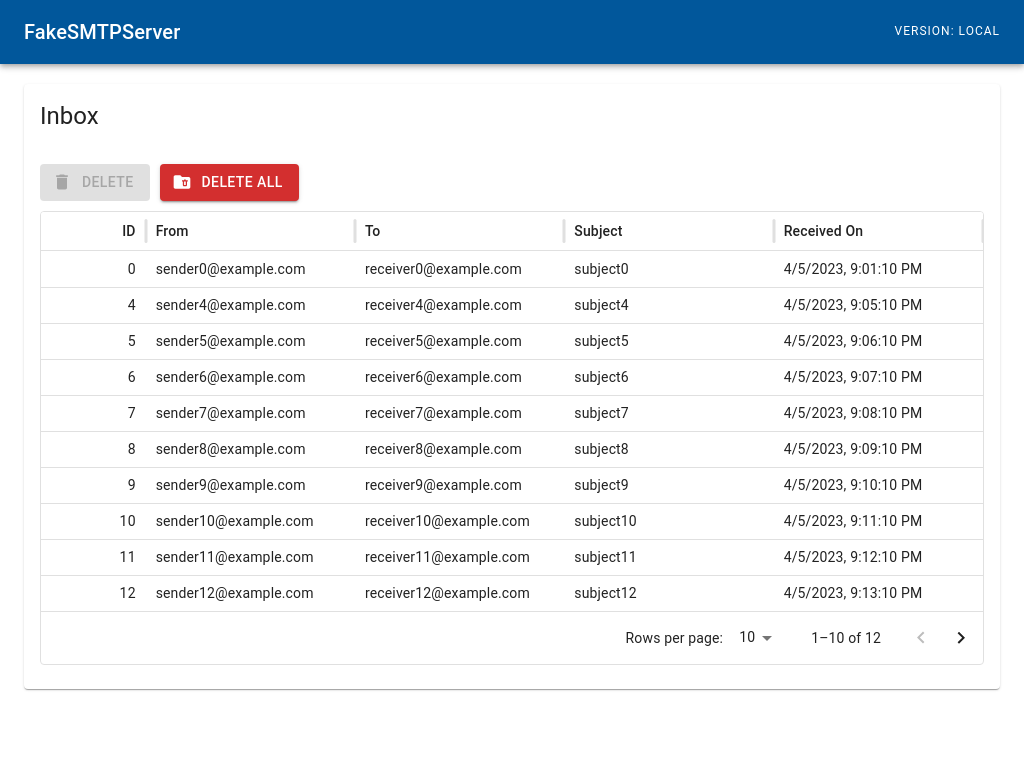
EmailListPage › should delete all emails when delete is confirmed
This screenshot has width=1024, height=768.
expect the cell titled "5" is shown: met, box [41,322,146,358]
Click the button "Delete All".
click(229, 182)  # box [160,164,299,200]
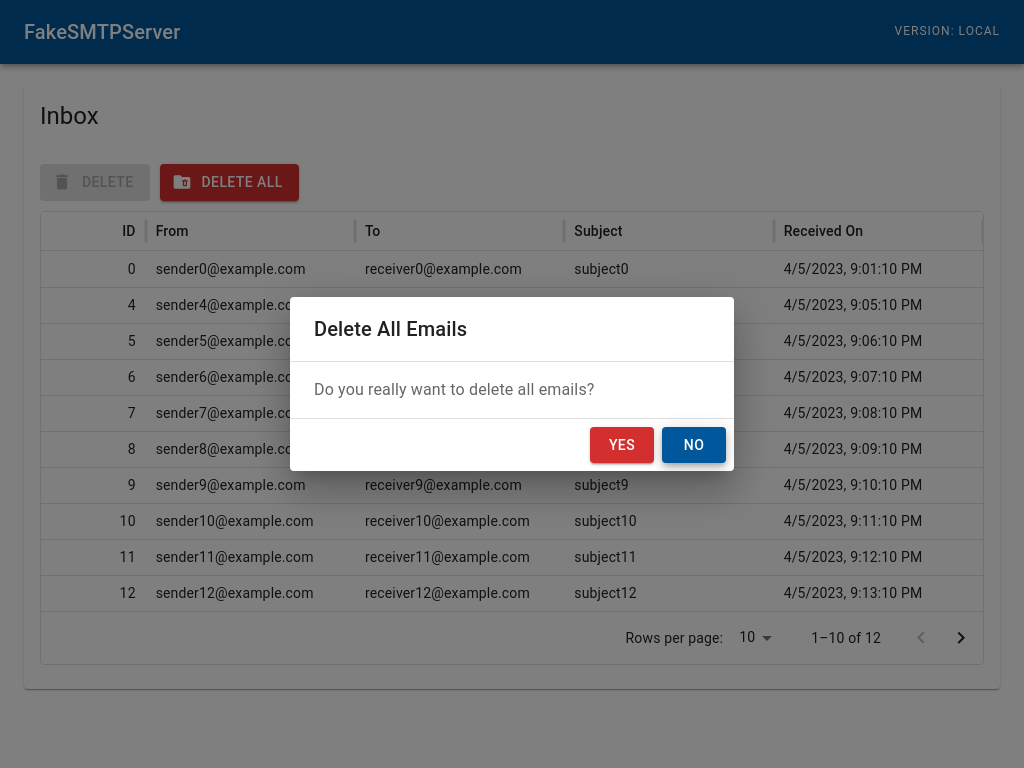
expect the heading "Delete All Emails" is shown: met, box [314,317,467,341]
Click the button "Yes".
click(622, 445)  # box [590,427,654,463]
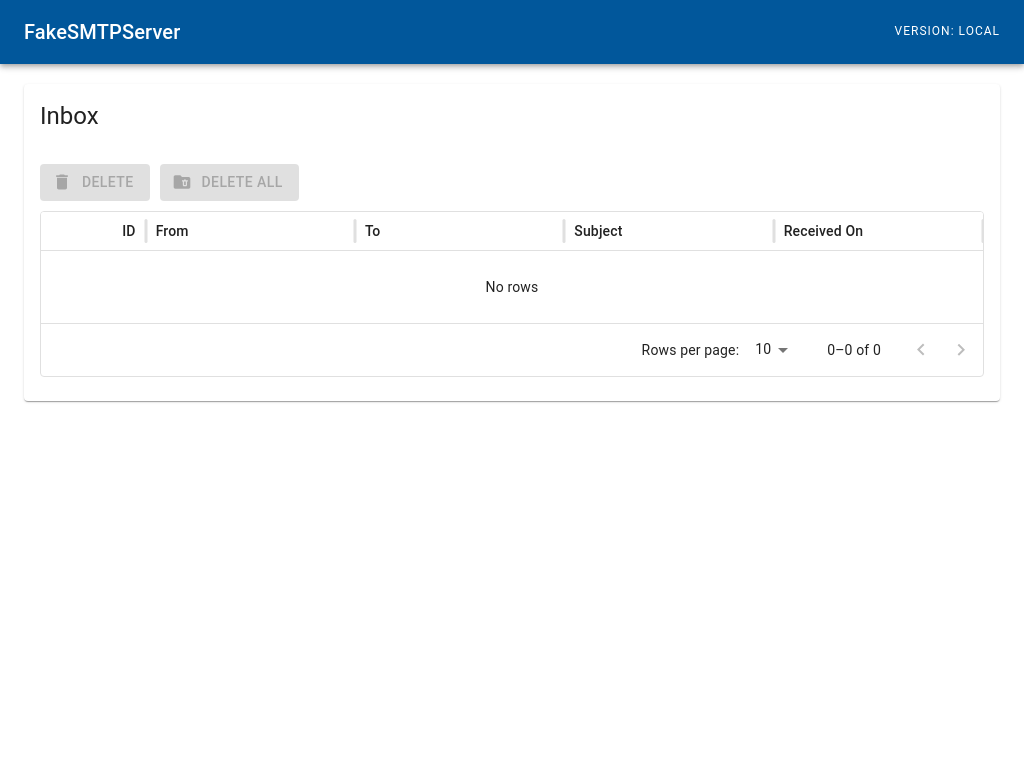
expect the text "No rows" is shown: met, box [41,250,983,322]
